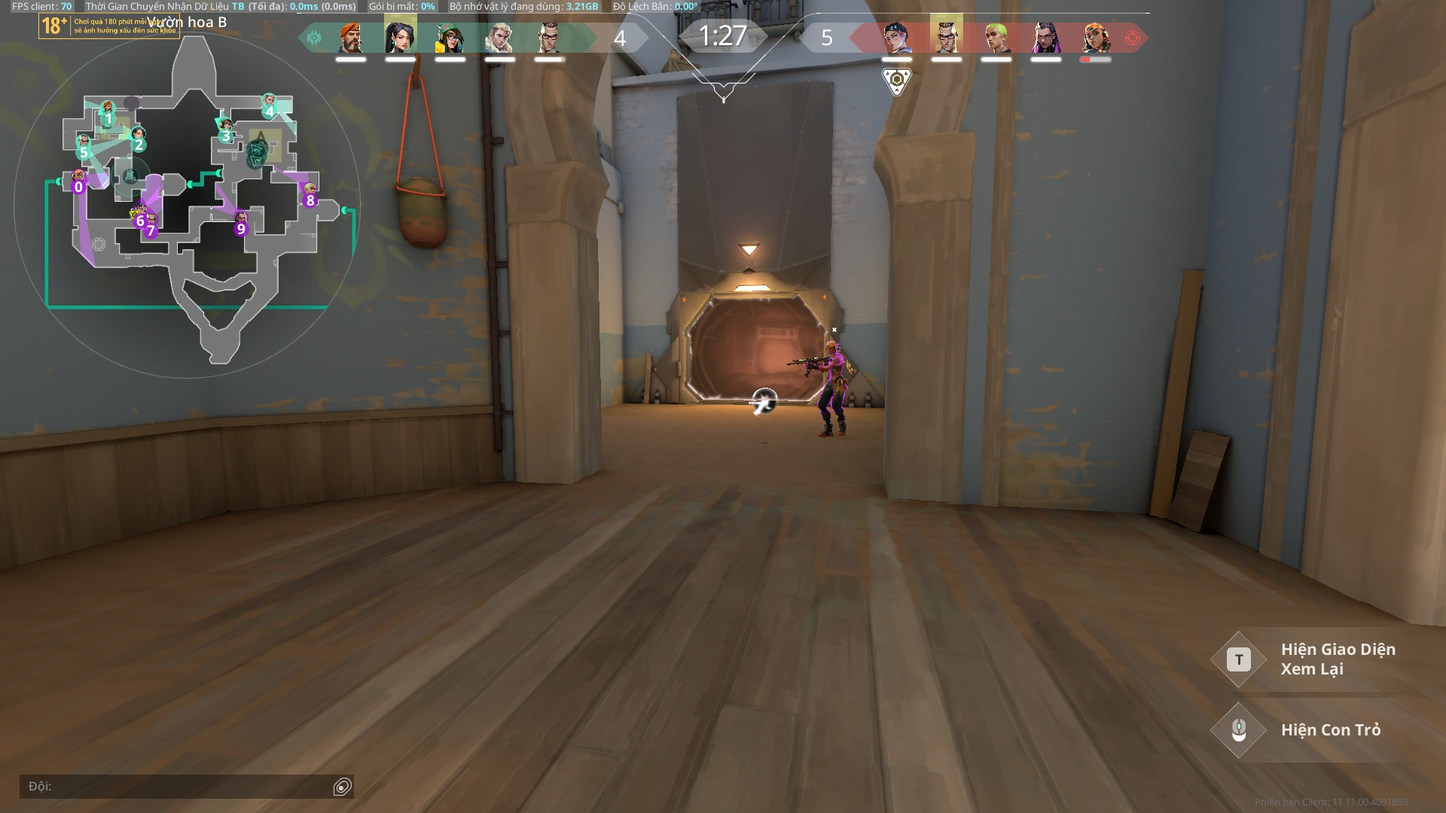body: (826, 351, 845, 376)
head: (825, 340, 838, 353)
